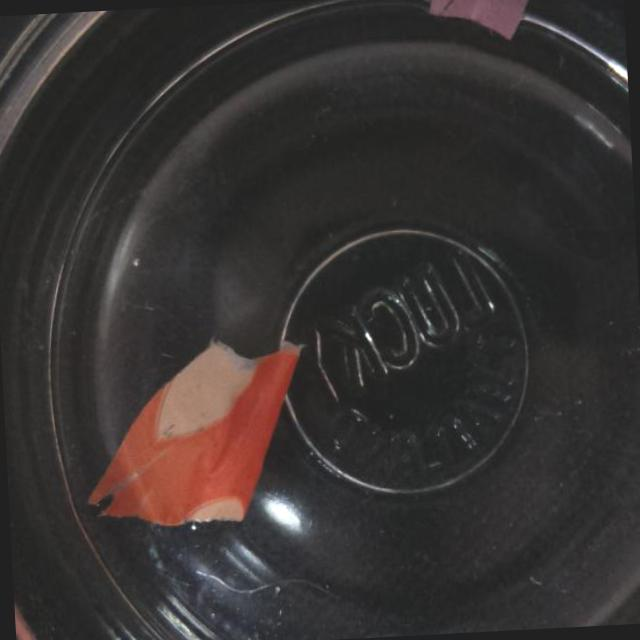fiber: (77, 331, 316, 530), (428, 0, 535, 45)
